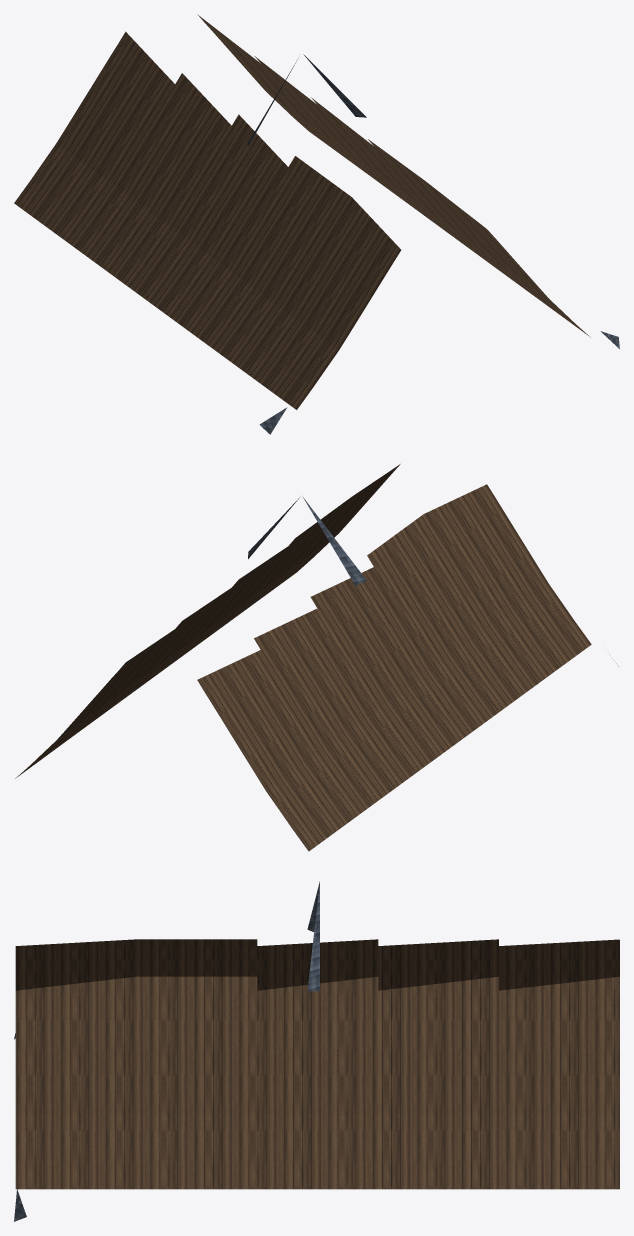
Rendered from Roof_Slate_8x12_LOD2.gltf.
3 views of the same model, one above another, from view 1: azimuth 30°, elevation 25°; view 2: azimuth 150°, elevation 25°; view 3: azimuth 270°, elevation 25° (orthographic). The views are drawn at different scales.
Parts seen in each view (by area): view 1: Roof_Slate_8x12_LOD2; view 2: Roof_Slate_8x12_LOD2; view 3: Roof_Slate_8x12_LOD2.
Part boxes in pixels (bbox=[...]): Roof_Slate_8x12_LOD2: bbox=[14, 14, 619, 434]; Roof_Slate_8x12_LOD2: bbox=[15, 464, 618, 851]; Roof_Slate_8x12_LOD2: bbox=[14, 881, 619, 1221].
Size of the model in its own units: 9.95 by 6.21 by 13.61.
2 materials, 2 textured.
